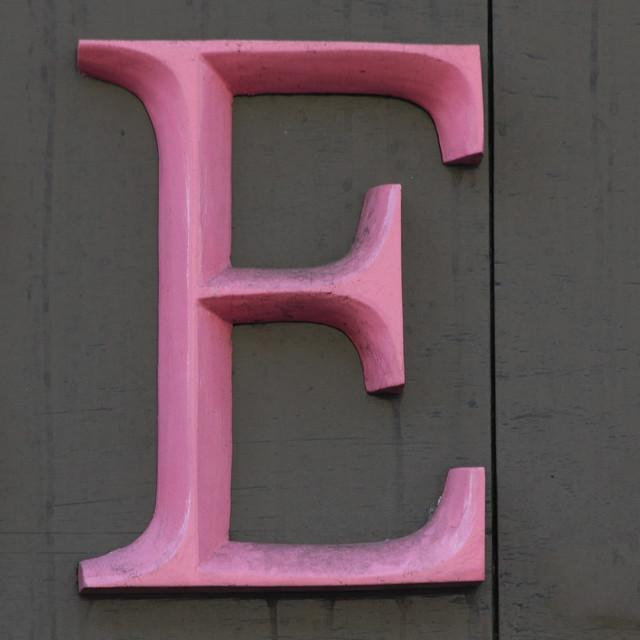E: (44, 15, 544, 619)
